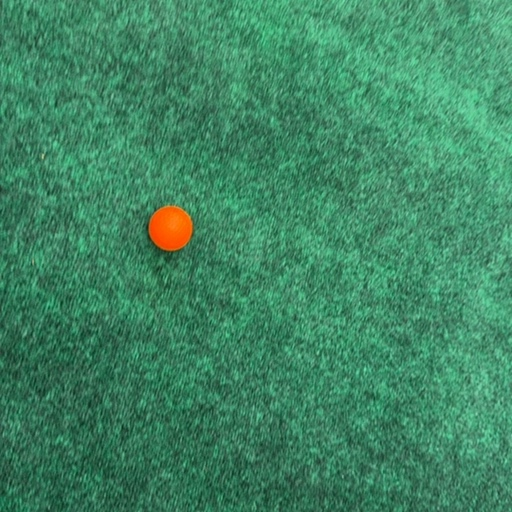Ball: (148, 206, 192, 250)
